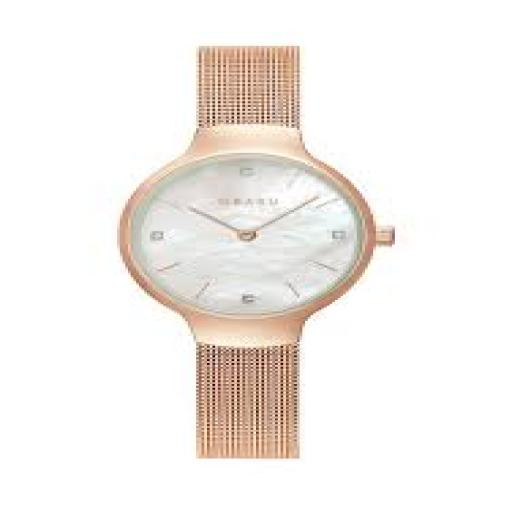KolSaati: (91, 31, 420, 477)
